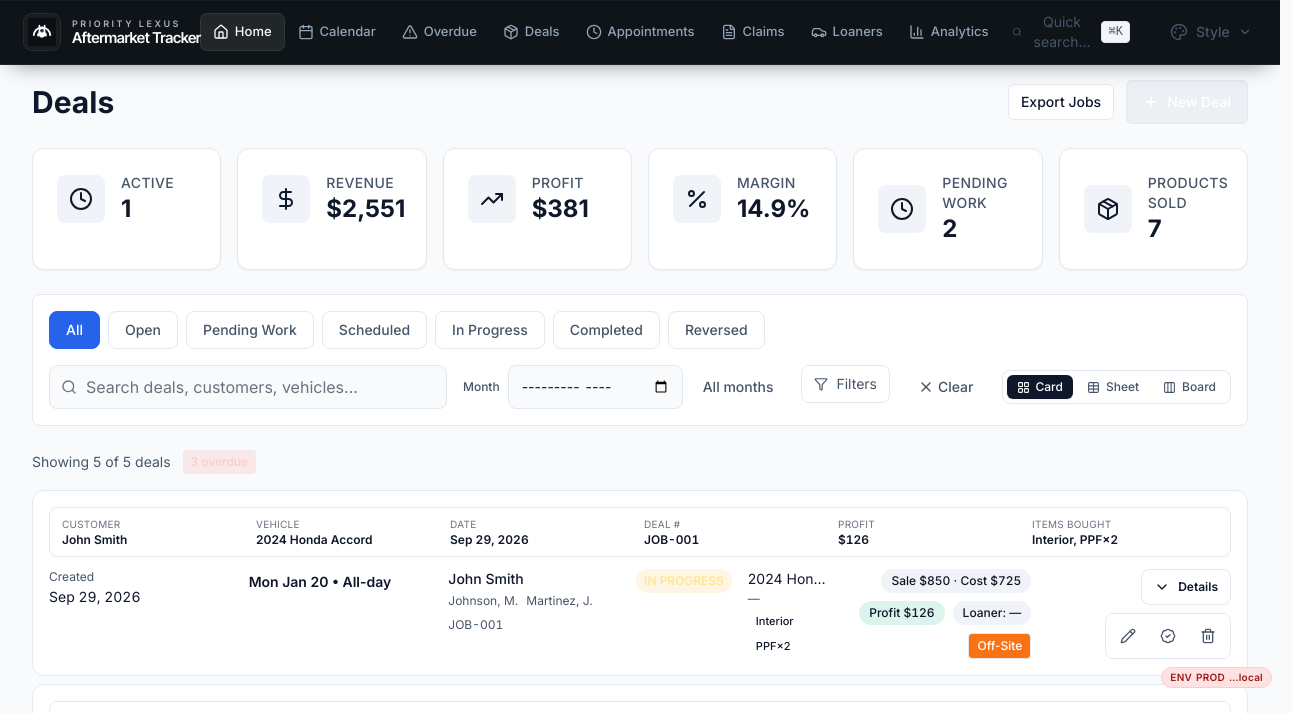
Step 16: Deals List Screen Verification › should render spreadsheet sheet view with category flags and tracking
Click the button "Sheet" at coordinates (1113, 387), box [1077,375,1149,399]
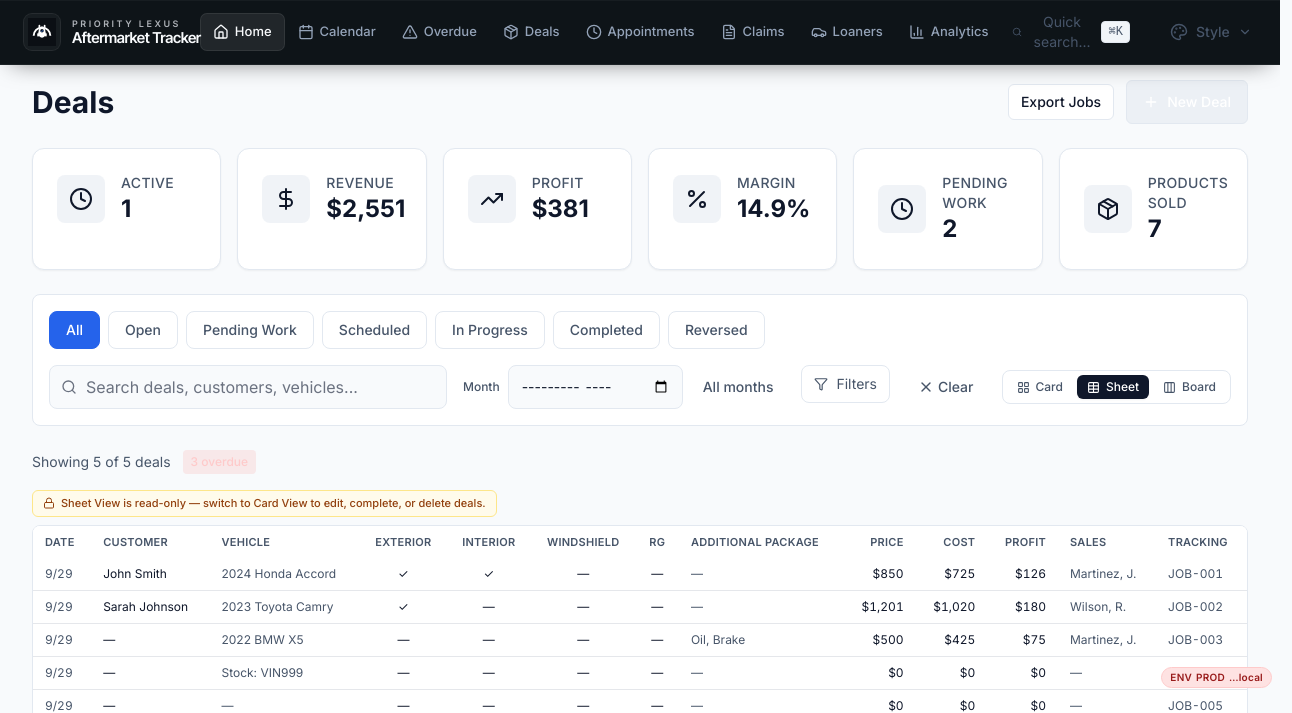
Check: the button with test id "sheet-row-job-001" is shown, box [33,558,1247,590]
Check: the cell with test id "sheet-job-001-exterior" reads "✓", box [398,566,409,580]
Check: the cell with test id "sheet-job-001-interior" reads "✓", box [484,566,494,580]
